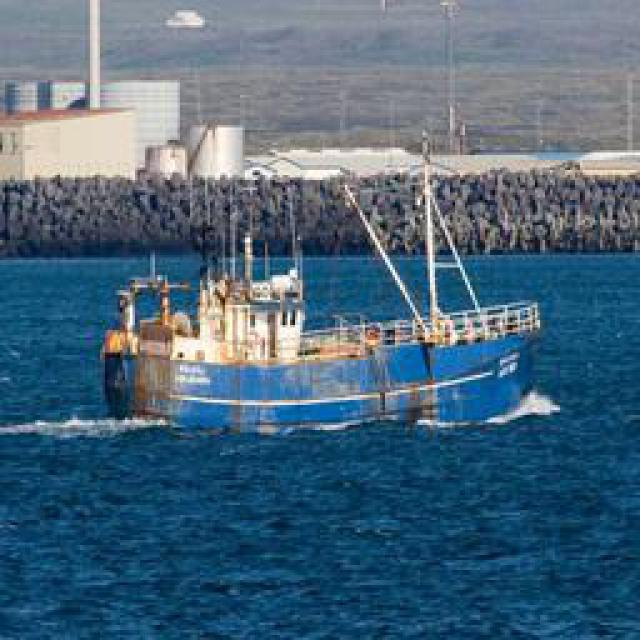Ship: (70, 151, 548, 434)
